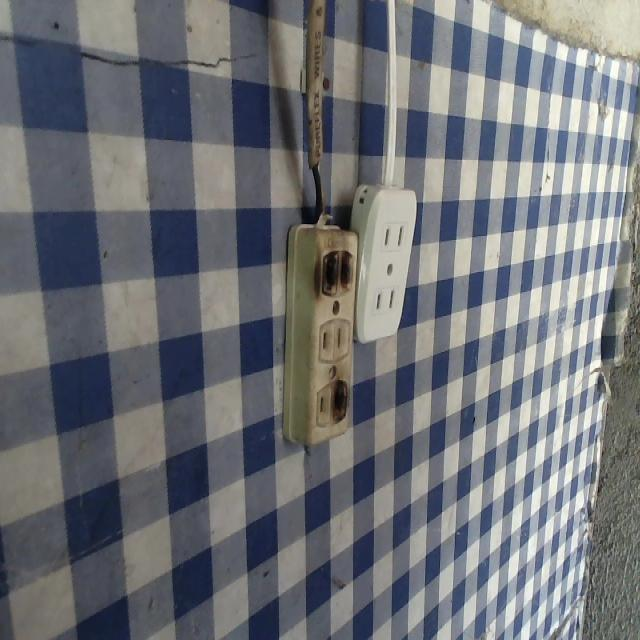-: (320, 248, 355, 297), (332, 376, 351, 431)
